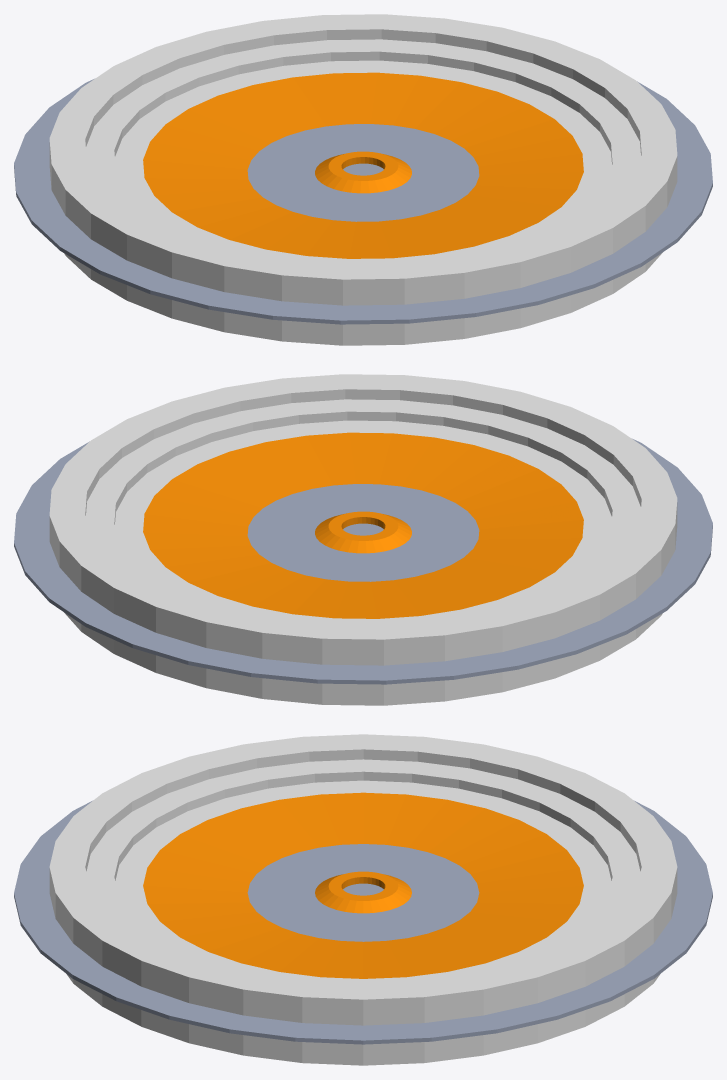
The model's file is Teleporteur red.fbx.
3 views of the same model, one above another, from view 1: azimuth 30°, elevation 25°; view 2: azimuth 150°, elevation 25°; view 3: azimuth 270°, elevation 25° (orthographic).
Visible parts, largest first — view 1: Cylinder, Cylinder.001, Cylinder.002; view 2: Cylinder, Cylinder.001, Cylinder.002; view 3: Cylinder, Cylinder.001, Cylinder.002.
Boxes of the visible parts, bbox=[...] form: Cylinder: bbox=[49, 14, 677, 345]; Cylinder.001: bbox=[143, 72, 583, 258]; Cylinder.002: bbox=[14, 78, 712, 324]; Cylinder: bbox=[49, 374, 677, 705]; Cylinder.001: bbox=[143, 432, 583, 618]; Cylinder.002: bbox=[14, 438, 712, 684]; Cylinder: bbox=[49, 734, 677, 1065]; Cylinder.001: bbox=[143, 792, 583, 978]; Cylinder.002: bbox=[14, 800, 712, 1044].
Size of the model in its own units: 223 by 23.2 by 223.
